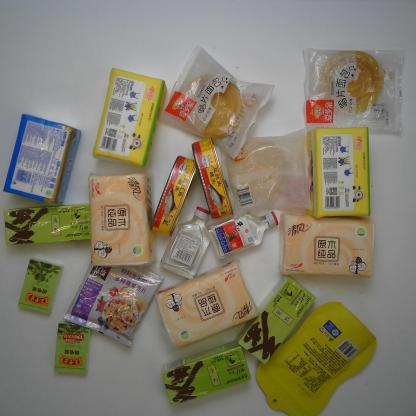Alcohol: (162, 205, 219, 282), (212, 210, 282, 258)
Candy: (17, 256, 68, 314), (50, 321, 95, 379)
Canned Food: (186, 136, 235, 222), (149, 154, 200, 236)
Dessert: (159, 45, 270, 156), (297, 45, 406, 137), (222, 134, 326, 219)
Dried Fruit: (254, 303, 378, 402)
Instant Drink: (69, 254, 163, 346), (237, 276, 314, 365), (162, 344, 250, 399), (3, 207, 92, 248)
Tissue: (153, 263, 261, 345), (88, 65, 167, 165), (80, 172, 159, 267), (280, 210, 380, 282), (4, 110, 77, 205), (306, 127, 374, 219)
